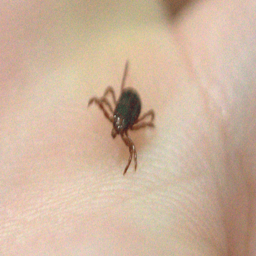Rhipicephalus sanguineus: (87, 58, 157, 176)
